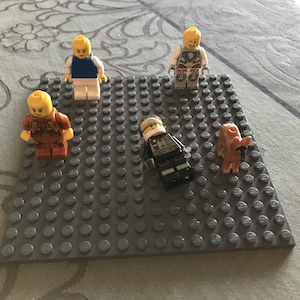Lego: (134, 114, 199, 189), (19, 92, 72, 160), (62, 35, 103, 103), (169, 27, 208, 97)
